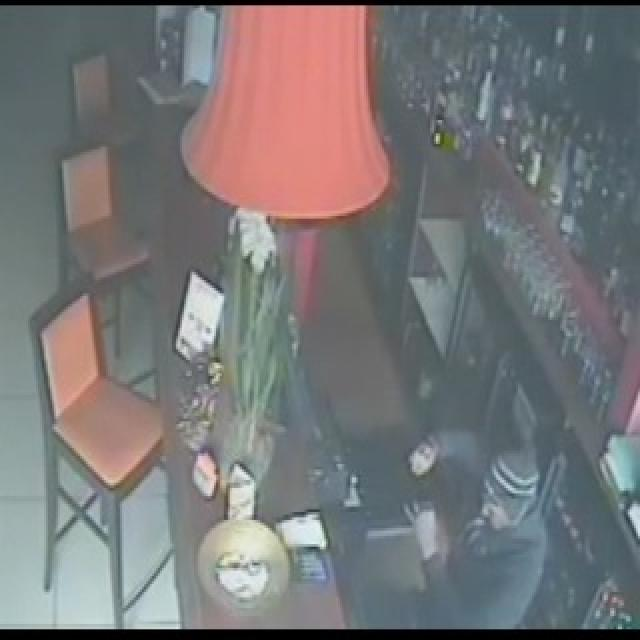thief: (435, 445, 555, 594)
